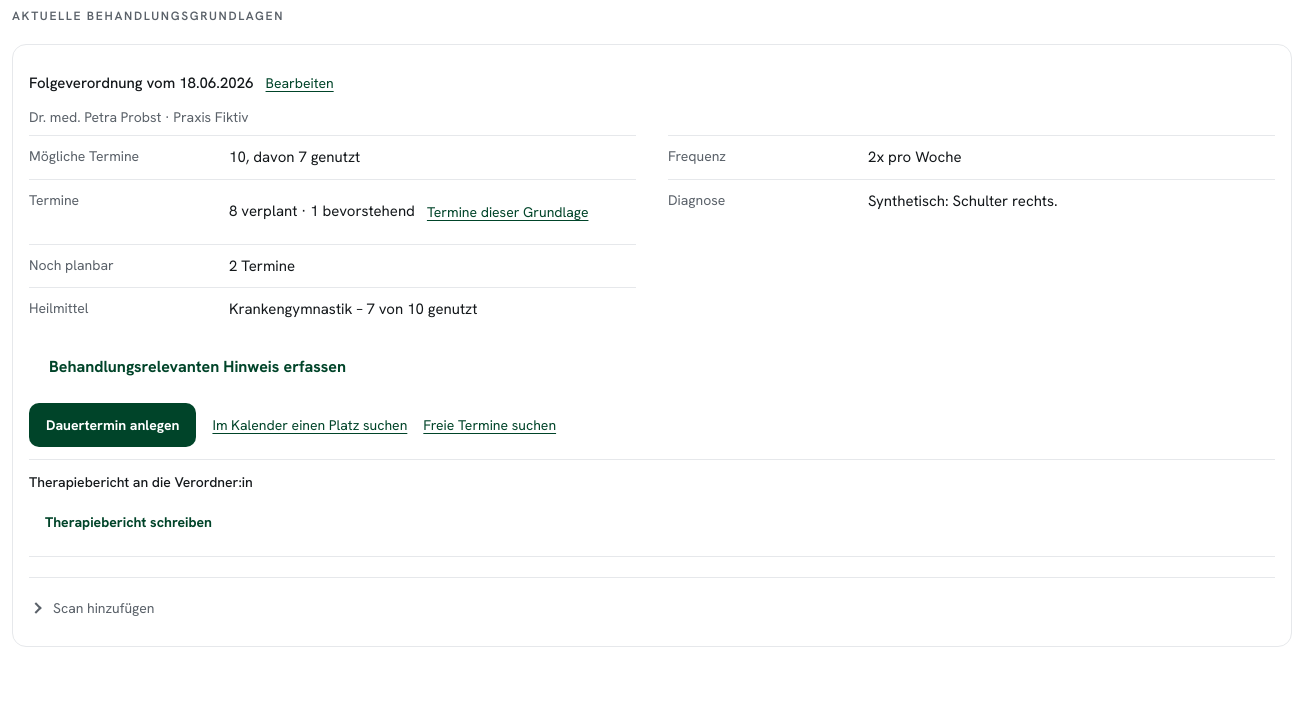
Verordnungsbereich der Akte › Behandlungsrelevanter Hinweis (ABN-007) › lässt die Therapeut:in den Hinweis erfassen
Click the button "Behandlungsrelevanten Hinweis erfassen": (198,366) [29,342,366,390]
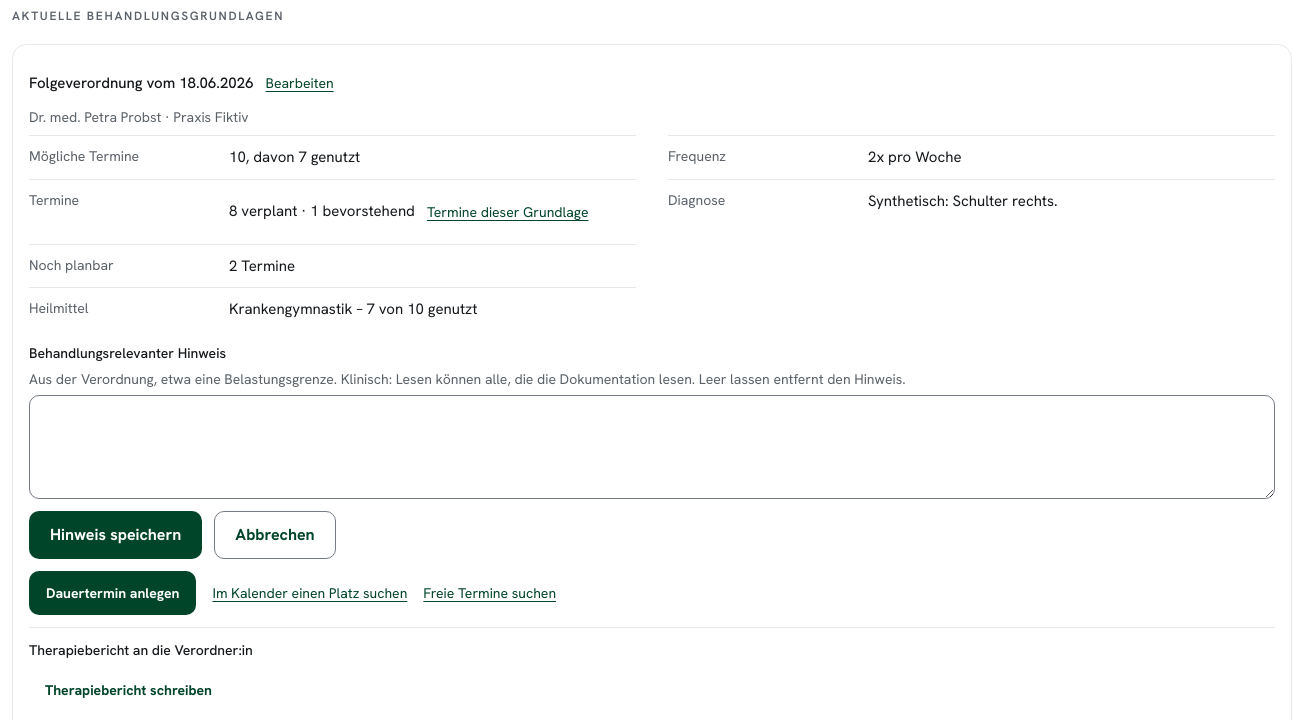
In the text box labelled "Behandlungsrelevanter Hinweis": (652,446) [29,394,1275,498], type "Synthetisch: keine Belastung über 20 kg."
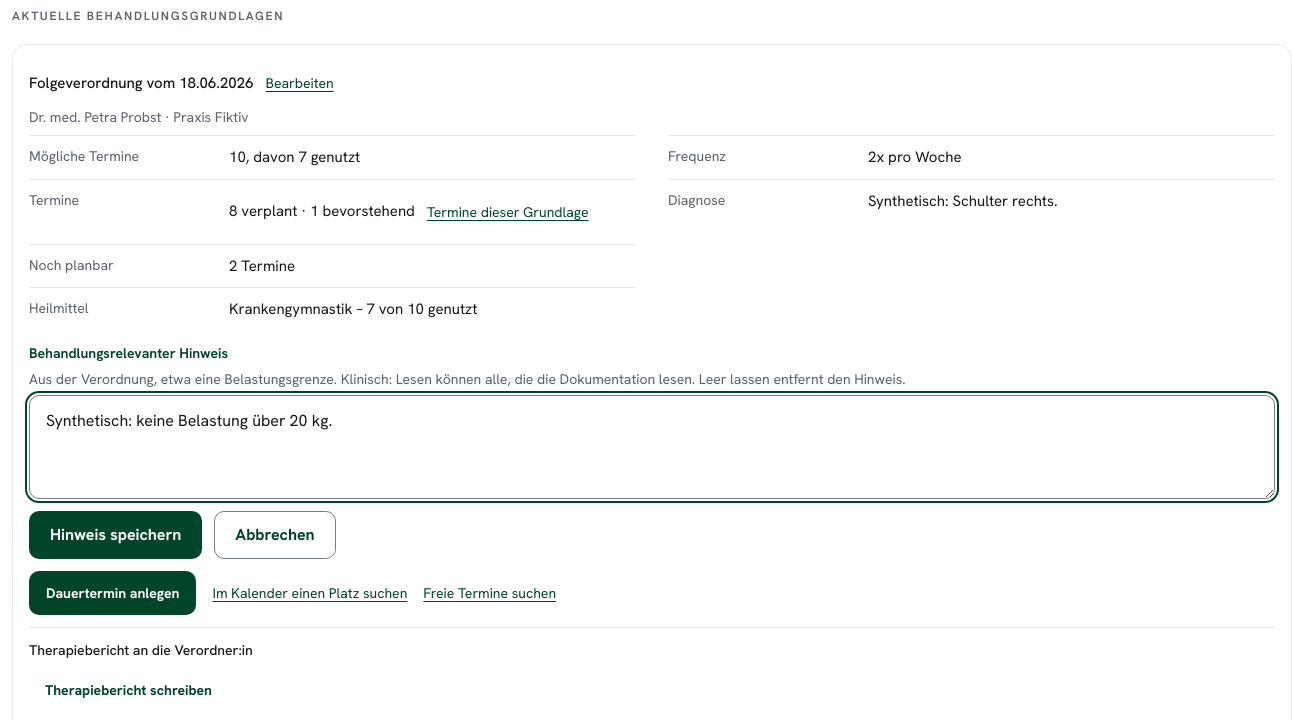
Click the button "Hinweis speichern": (116,534) [29,510,202,558]
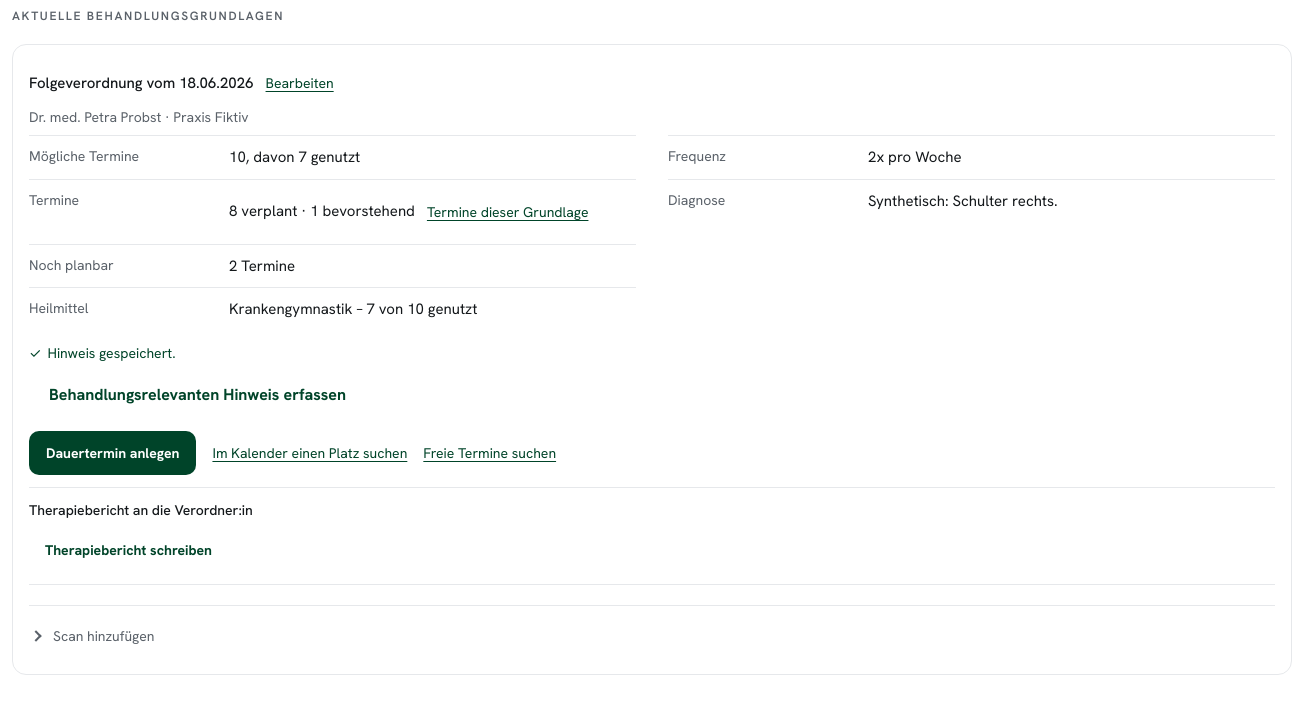
expect the text "Hinweis gespeichert." is shown: met, box [47,344,176,362]
